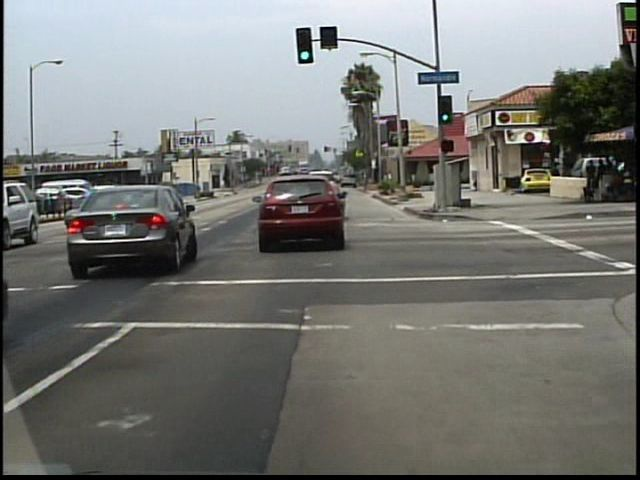person: (546, 159, 563, 198)
